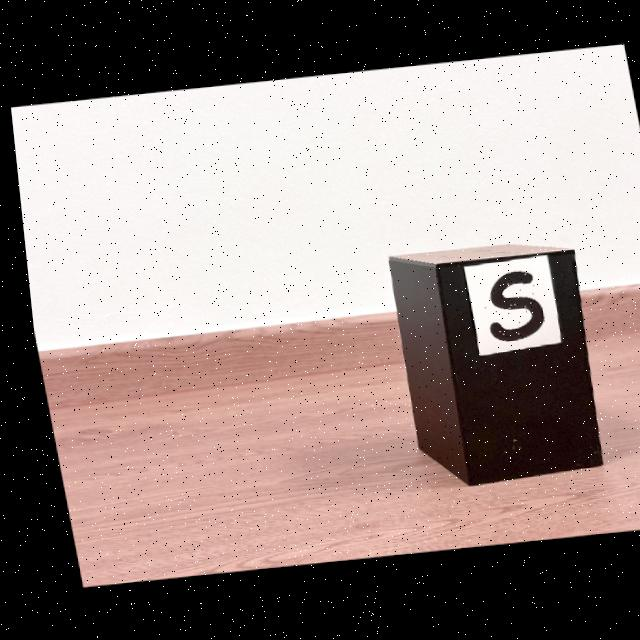S: (482, 272, 537, 343)
